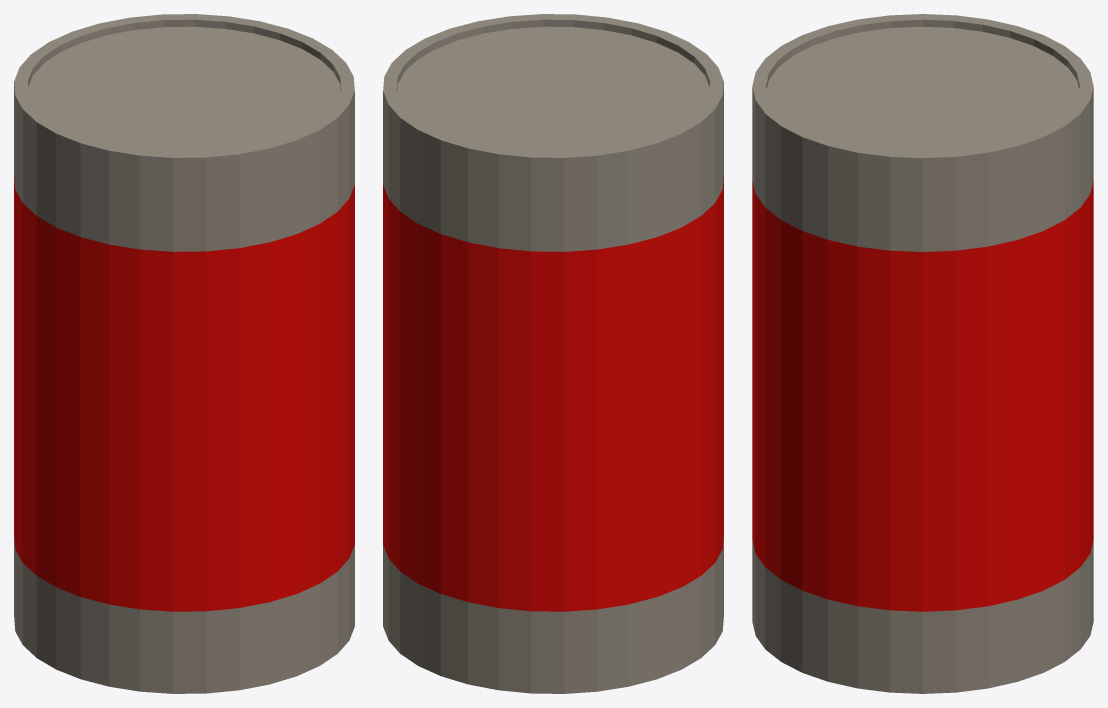
Rendered from RefrescoA.fbx.
The picture shows the model from 3 angles, left to right: view 1: azimuth 30°, elevation 25°; view 2: azimuth 150°, elevation 25°; view 3: azimuth 270°, elevation 25°; orthographic projection.
Parts seen in each view (by area): view 1: Cylinder; view 2: Cylinder; view 3: Cylinder.
Part boxes in pixels (x1,y1,x2,y2): Cylinder: [14, 14, 354, 693]; Cylinder: [383, 14, 723, 693]; Cylinder: [752, 14, 1093, 693].
Size of the model in its own units: 3.33 by 5.76 by 3.33.
